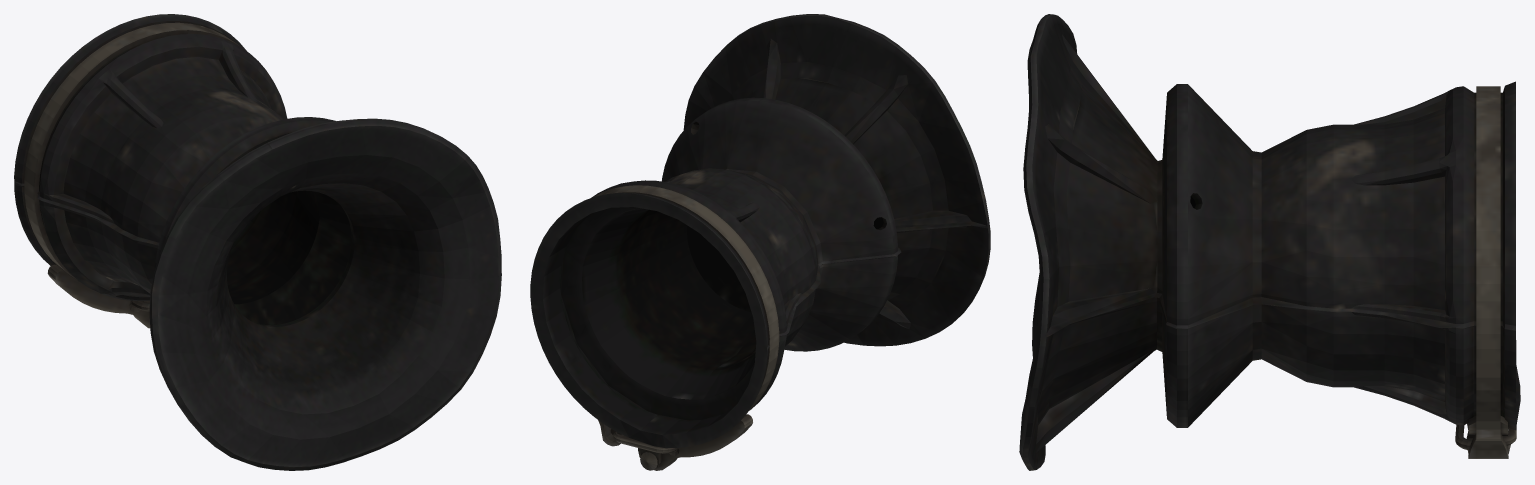
3 views of the same model, side by side, from view 1: azimuth 30°, elevation 25°; view 2: azimuth 150°, elevation 25°; view 3: azimuth 270°, elevation 25° (orthographic). The views are drawn at different scales.
Parts seen in each view (by area): view 1: TW_5ba36f85d4351e0085325c81_PZ_Import; view 2: TW_5ba36f85d4351e0085325c81_PZ_Import; view 3: TW_5ba36f85d4351e0085325c81_PZ_Import.
Part boxes in pixels (left/top/right/bottom): TW_5ba36f85d4351e0085325c81_PZ_Import: left=14, top=14, right=501, bottom=470; TW_5ba36f85d4351e0085325c81_PZ_Import: left=530, top=14, right=990, bottom=470; TW_5ba36f85d4351e0085325c81_PZ_Import: left=1019, top=14, right=1520, bottom=470.
Bounding box in the file's own units: 0.0309 × 0.0333 × 0.03.
1 material, 1 textured.
